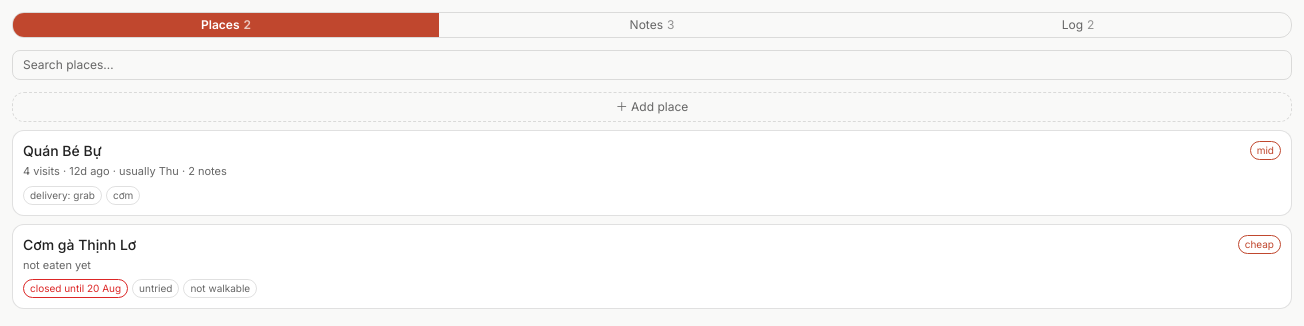
Test case: KnowledgePanel — memory log › shows dated sections with only the newest expanded, and a read-only watermark
Expected: the text "Quán Bé Bự" is shown, [23,142,102,159]
Click the tab "Log2" at (1078, 25), box [865,13,1291,37]
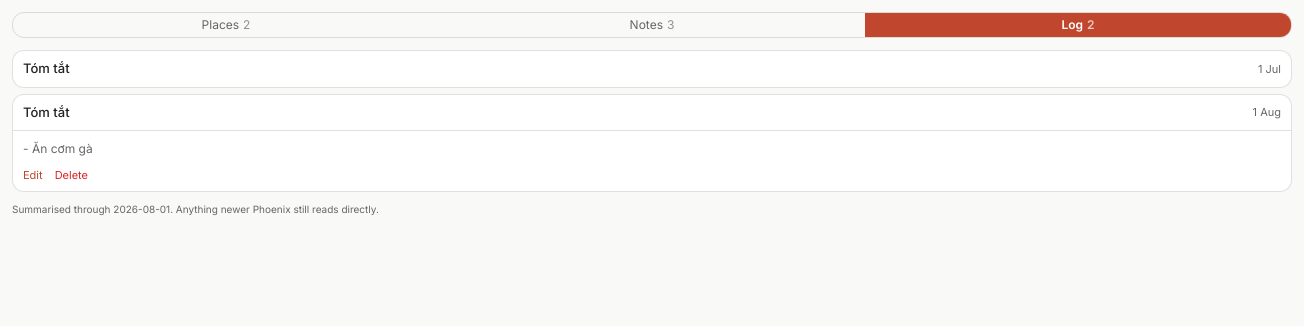
Expected: the text "- Ăn cơm gà" is shown, [23,141,93,156]
Expected: the text "Summarised through 2026-08-01" is shown, [12,203,379,215]
